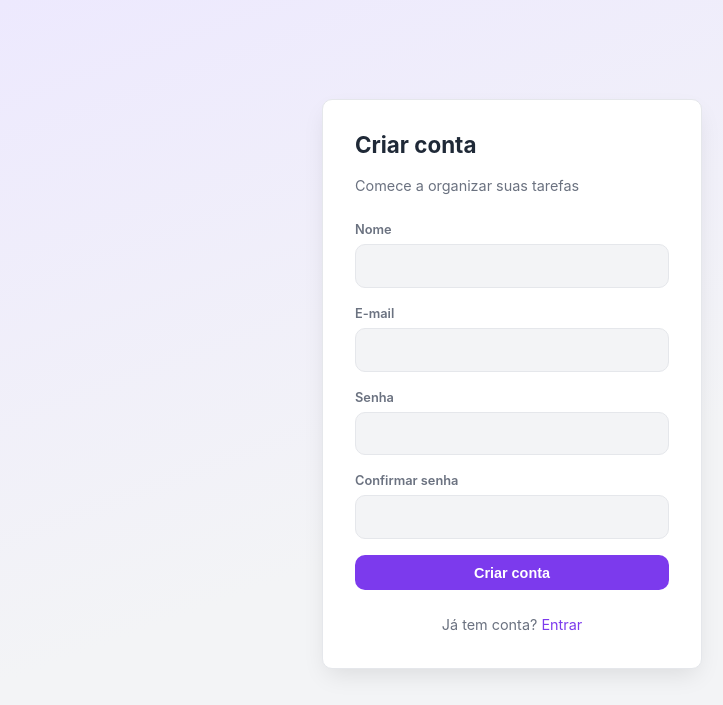
RegisterPage › shows validation error when passwords do not match
Type "password1" into the password field with test id "register-password" at (512, 433), box [355,412,669,455]
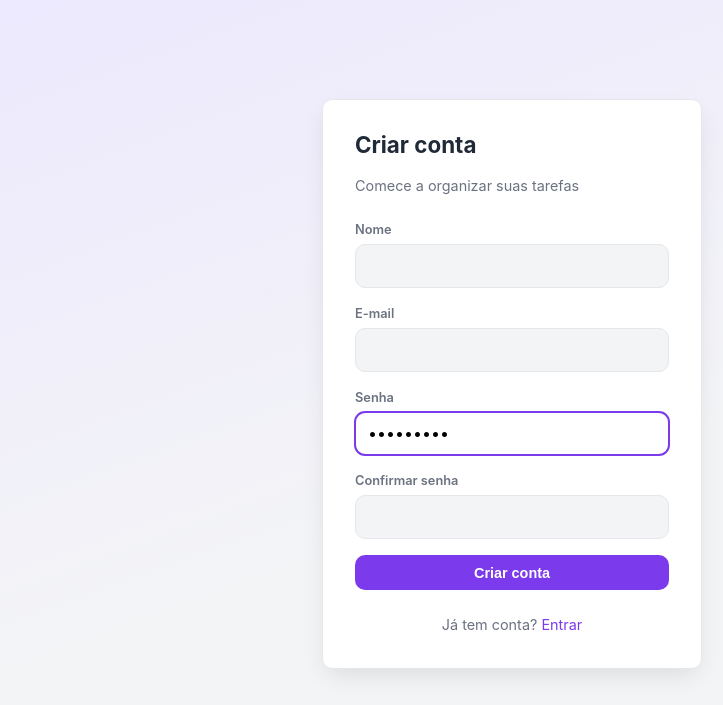
Type "different" into the password field with test id "register-confirm-password" at (512, 517), box [355,495,669,539]
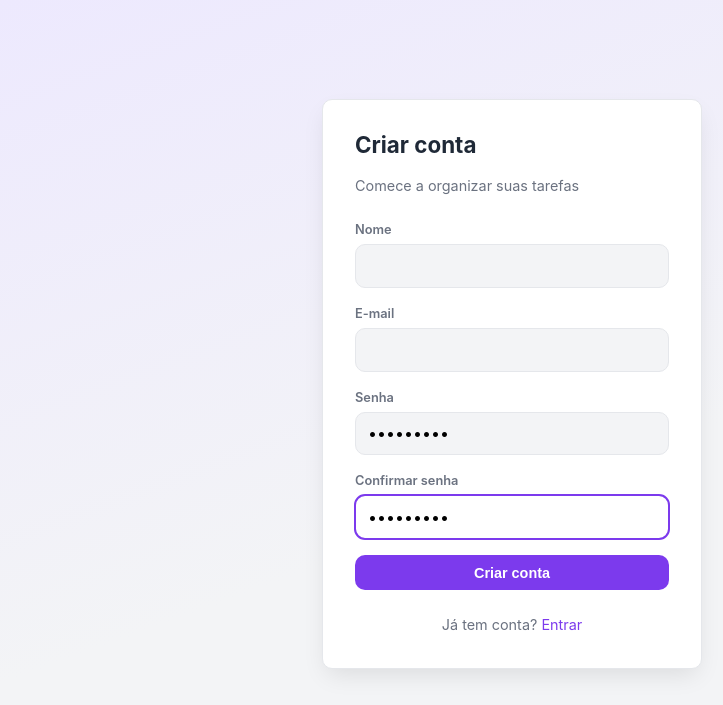
Press Tab
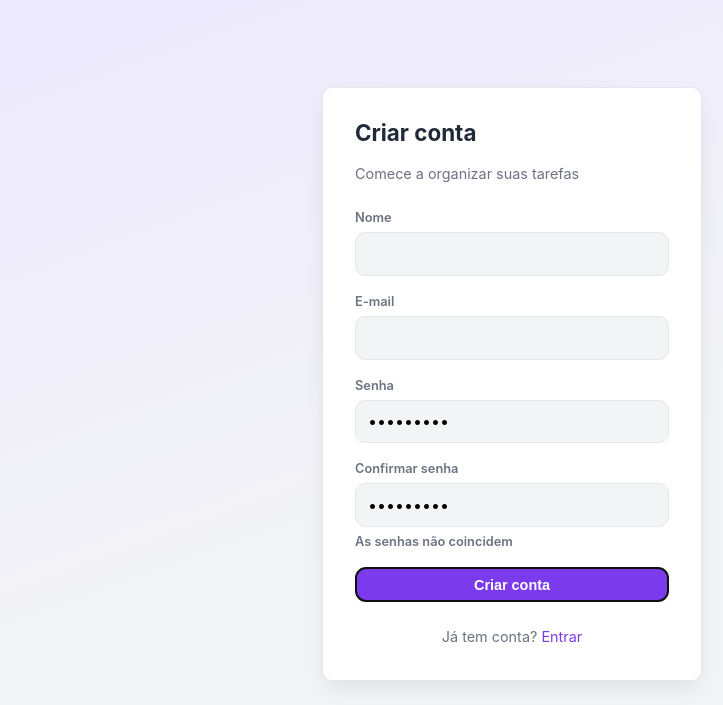
Expected: the text "As senhas não coincidem" is shown, [355,534,513,549]
